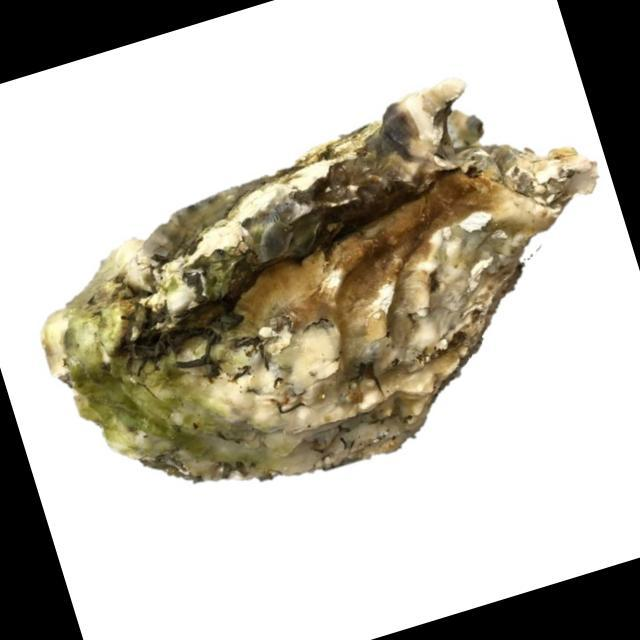Oyster- Indeterminate: (40, 77, 597, 485)
